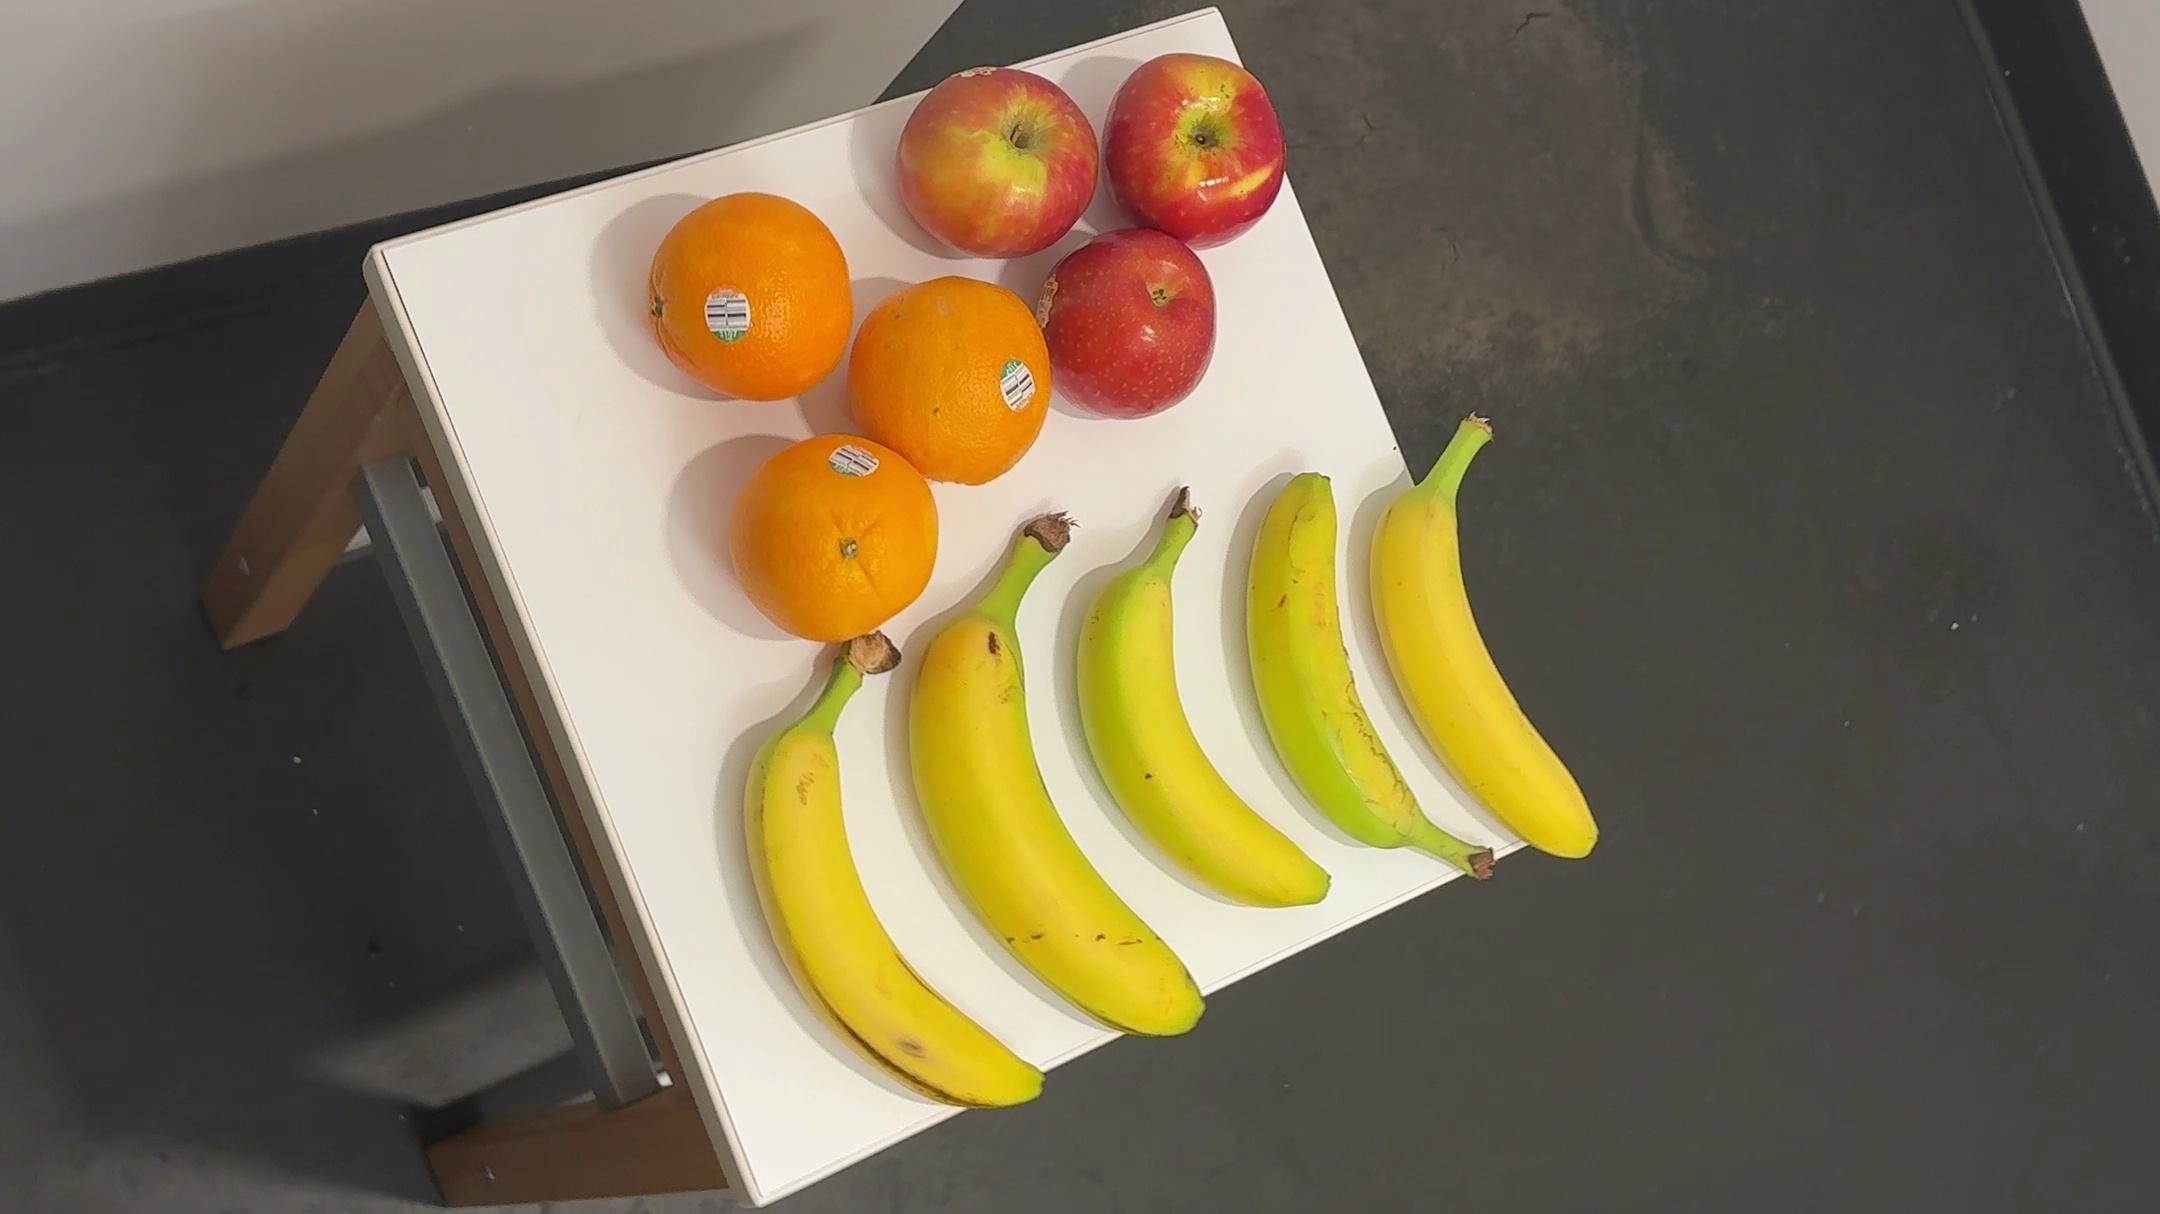apple: (898, 67, 1099, 255), (1099, 47, 1300, 234), (1043, 232, 1218, 408)
banana: (909, 514, 1206, 1048), (722, 631, 1047, 1113), (1237, 463, 1504, 896), (1081, 482, 1323, 932), (1374, 411, 1607, 874)
orange: (734, 423, 933, 646), (863, 269, 1062, 488), (651, 200, 855, 407)
